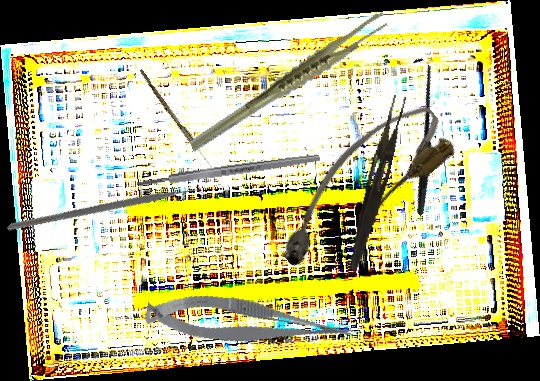Cannula: (256, 92, 462, 278)
Chopper: (6, 111, 212, 315)
Dressing Forceps: (347, 93, 407, 273)
Hook Surgical: (340, 56, 500, 216)
Micro Scissor: (143, 280, 356, 368)
Scalpel Handle: (136, 152, 321, 190)
Surgical Spoon: (137, 69, 216, 171)
Tissue Forceps: (171, 10, 405, 154)
